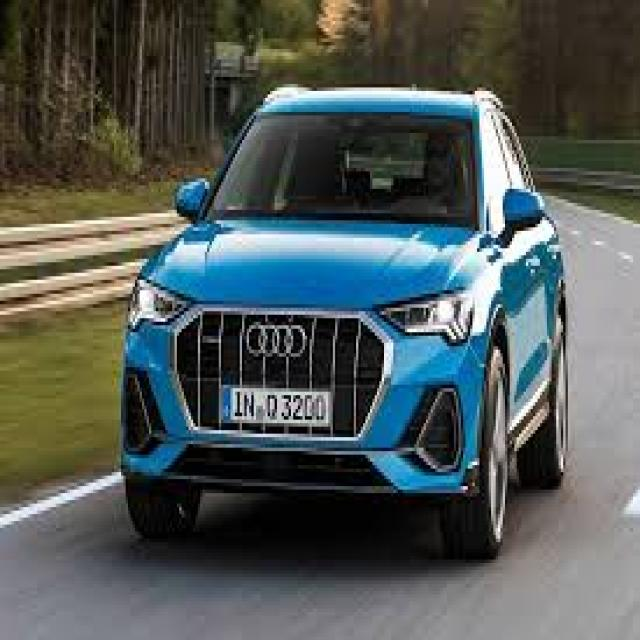Car: (121, 92, 569, 554)
